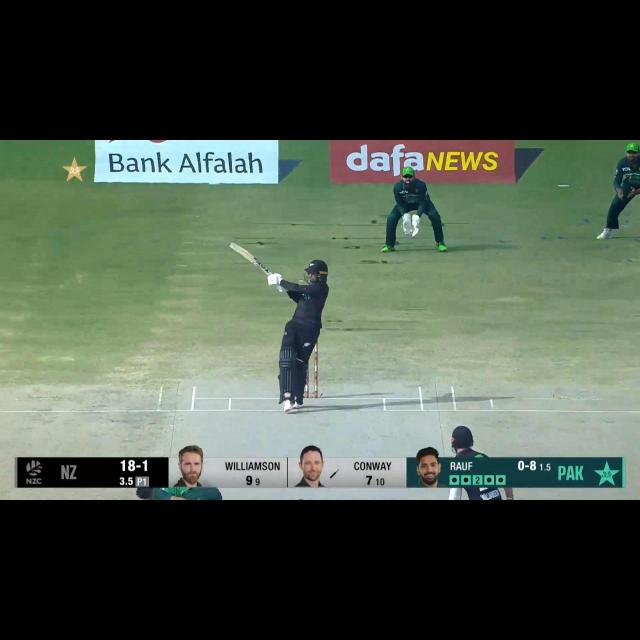bat: (229, 241, 272, 278)
toe: (228, 242, 242, 252)
